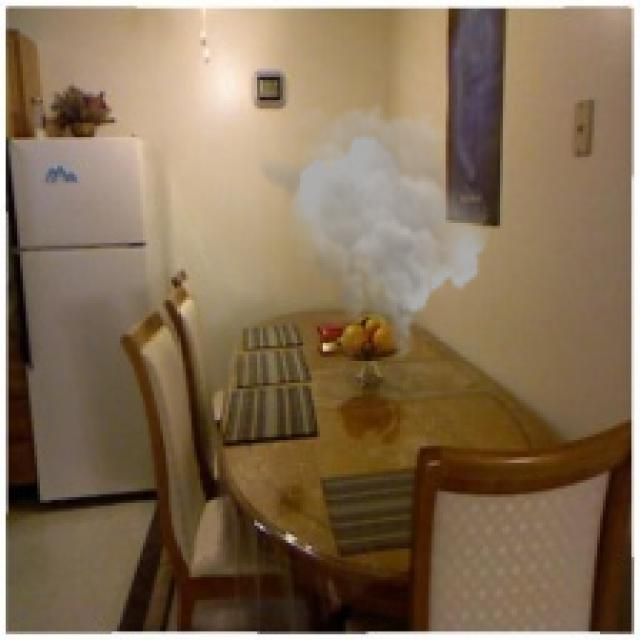smoke: (257, 100, 492, 363)
